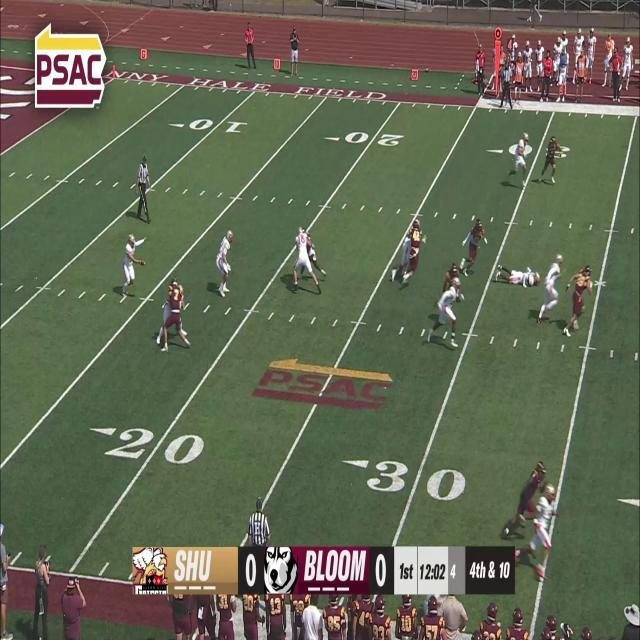football: (140, 258, 146, 266)
